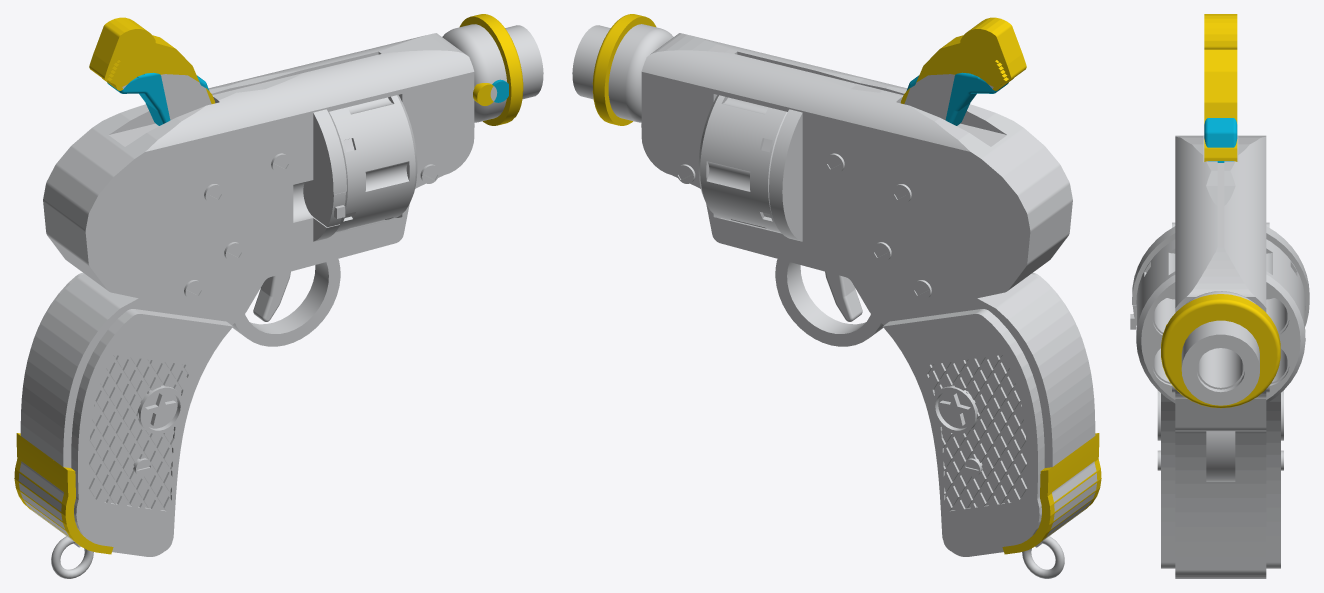
Rendered from diff_volume.glb.
3 views of the same model, side by side, from view 1: azimuth 30°, elevation 25°; view 2: azimuth 150°, elevation 25°; view 3: azimuth 270°, elevation 25° (orthographic). The views are drawn at different scales.
Visible parts, largest first — view 1: =>[0:1:1:2], =>[0:1:1:23], =>[0:1:1:9], =>[0:1:1:40], =>[0:1:1:43], =>[0:1:1:16], =>[0:1:1:38], =>[0:1:1:3], =>[0:1:1:25], =>[0:1:1:31], =>[0:1:1:13], =>[0:1:1:34] (+2 smaller); view 2: =>[0:1:1:2], =>[0:1:1:21], =>[0:1:1:9], =>[0:1:1:40], =>[0:1:1:16], =>[0:1:1:43], =>[0:1:1:38], =>[0:1:1:3], =>[0:1:1:25], =>[0:1:1:31], =>[0:1:1:34], =>[0:1:1:29] (+1 smaller); view 3: =>[0:1:1:2], =>[0:1:1:9], =>[0:1:1:38], =>[0:1:1:31], =>[0:1:1:40], =>[0:1:1:23], =>[0:1:1:21], =>[0:1:1:14], =>[0:1:1:35], =>[0:1:1:41].
Boxes of the visible parts, x1=… form: =>[0:1:1:2]: x1=20, y1=33, x2=474, y2=556; =>[0:1:1:23]: x1=71, y1=309, x2=232, y2=552; =>[0:1:1:9]: x1=328, y1=95, x2=417, y2=232; =>[0:1:1:40]: x1=89, y1=17, x2=199, y2=90; =>[0:1:1:43]: x1=14, y1=433, x2=113, y2=554; =>[0:1:1:16]: x1=442, y1=24, x2=507, y2=122; =>[0:1:1:38]: x1=459, y1=14, x2=523, y2=125; =>[0:1:1:3]: x1=18, y1=463, x2=74, y2=541; =>[0:1:1:25]: x1=161, y1=74, x2=211, y2=120; =>[0:1:1:31]: x1=505, y1=25, x2=543, y2=99; =>[0:1:1:13]: x1=303, y1=180, x2=345, y2=227; =>[0:1:1:34]: x1=107, y1=72, x2=170, y2=125; =>[0:1:1:2]: x1=641, y1=33, x2=1095, y2=556; =>[0:1:1:21]: x1=883, y1=309, x2=1044, y2=552; =>[0:1:1:9]: x1=698, y1=95, x2=787, y2=232; =>[0:1:1:40]: x1=916, y1=17, x2=1026, y2=90; =>[0:1:1:16]: x1=608, y1=24, x2=673, y2=122; =>[0:1:1:43]: x1=1002, y1=433, x2=1101, y2=554; =>[0:1:1:38]: x1=592, y1=14, x2=656, y2=125; =>[0:1:1:3]: x1=1041, y1=463, x2=1097, y2=541; =>[0:1:1:25]: x1=904, y1=74, x2=954, y2=120; =>[0:1:1:31]: x1=572, y1=25, x2=610, y2=99; =>[0:1:1:34]: x1=945, y1=72, x2=1008, y2=125; =>[0:1:1:29]: x1=825, y1=271, x2=862, y2=321; =>[0:1:1:2]: x1=1132, y1=135, x2=1309, y2=578; =>[0:1:1:9]: x1=1136, y1=239, x2=1305, y2=403; =>[0:1:1:38]: x1=1161, y1=294, x2=1280, y2=408; =>[0:1:1:31]: x1=1181, y1=320, x2=1259, y2=405; =>[0:1:1:40]: x1=1204, y1=14, x2=1237, y2=123; =>[0:1:1:23]: x1=1157, y1=390, x2=1175, y2=568; =>[0:1:1:21]: x1=1266, y1=390, x2=1283, y2=568; =>[0:1:1:14]: x1=1196, y1=348, x2=1244, y2=389; =>[0:1:1:35]: x1=1204, y1=118, x2=1237, y2=147; =>[0:1:1:41]: x1=1204, y1=139, x2=1237, y2=161.
Size of the model in its own units: 145 by 154 by 43.38.
